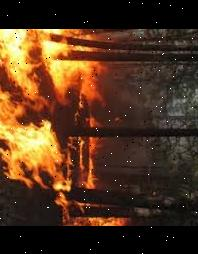fire: (0, 29, 142, 193)
